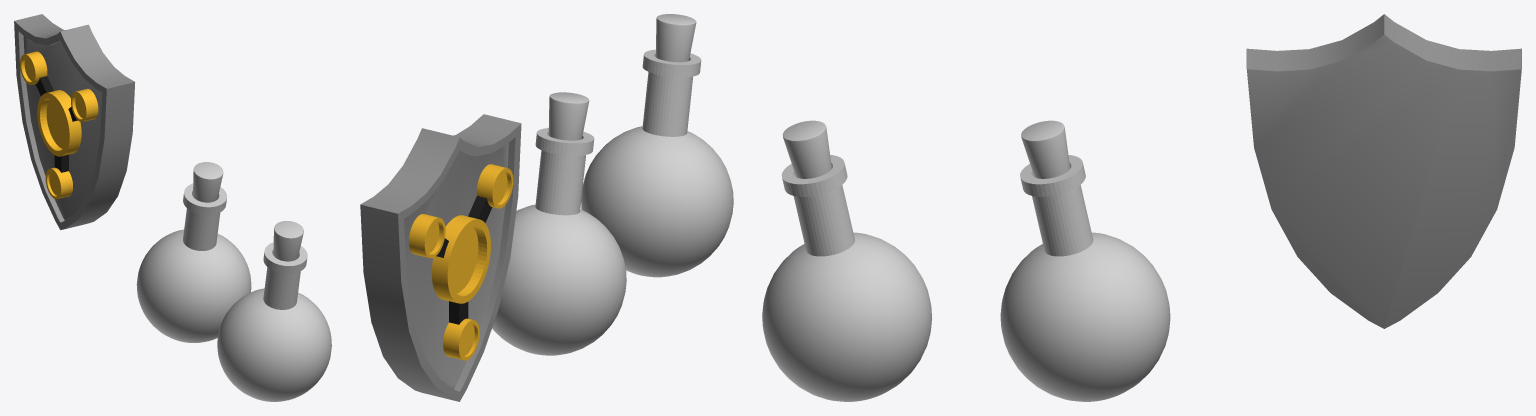
The model's file is MODELS.fbx.
3 views of the same model, side by side, from view 1: azimuth 30°, elevation 25°; view 2: azimuth 150°, elevation 25°; view 3: azimuth 270°, elevation 25° (orthographic). The views are drawn at different scales.
Visible parts, largest first — view 1: Cylinder005 (×2), Sphere001, Sphere003, Cylinder003, Cylinder002, Cylinder001, Cylinder006, Cylinder004; view 2: Cylinder005 (×2), Sphere001, Sphere003, Cylinder003, Cylinder002, Cylinder001, Cylinder004, Cylinder006, Box006, Box004; view 3: Cylinder005, Sphere001, Sphere003, Cylinder002, Cylinder001.
Boxes of the visible parts, left/top/right/bottom form: Cylinder005 (×2): left=14, top=14, right=135, bottom=230; Sphere001: left=217, top=242, right=331, bottom=401; Sphere003: left=136, top=183, right=251, bottom=342; Cylinder003: left=37, top=90, right=81, bottom=156; Cylinder002: left=193, top=162, right=223, bottom=202; Cylinder001: left=273, top=221, right=303, bottom=261; Cylinder006: left=71, top=88, right=98, bottom=122; Cylinder004: left=20, top=51, right=47, bottom=84; Cylinder005 (×2): left=360, top=114, right=521, bottom=401; Sphere001: left=581, top=49, right=733, bottom=277; Sphere003: left=492, top=128, right=626, bottom=355; Cylinder003: left=431, top=215, right=490, bottom=303; Cylinder002: left=548, top=92, right=589, bottom=140; Cylinder001: left=655, top=14, right=696, bottom=62; Cylinder004: left=409, top=214, right=445, bottom=258; Cylinder006: left=476, top=164, right=513, bottom=208; Box006: left=468, top=196, right=492, bottom=222; Box004: left=449, top=301, right=468, bottom=324; Cylinder005: left=1246, top=14, right=1521, bottom=328; Sphere001: left=762, top=155, right=931, bottom=401; Sphere003: left=1000, top=155, right=1170, bottom=401; Cylinder002: left=1021, top=120, right=1070, bottom=178; Cylinder001: left=783, top=120, right=831, bottom=178.
Size of what is drawn, in the model's own units: 25.67 by 59.67 by 115.
